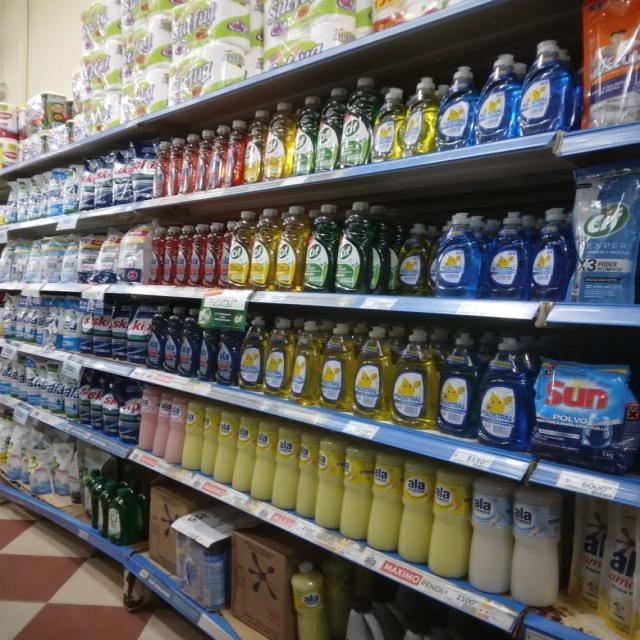ala_conc_azul: (216, 325, 237, 386), (180, 314, 197, 378), (198, 324, 215, 382), (163, 312, 178, 374), (147, 311, 162, 370)
ala_conc_rojo: (226, 119, 243, 188), (209, 124, 225, 190), (204, 222, 219, 288), (190, 223, 203, 288), (182, 134, 196, 194), (177, 224, 190, 287), (163, 225, 176, 286), (168, 136, 181, 196), (150, 226, 163, 285), (197, 130, 208, 192)
ala_crem_amarillo: (430, 466, 468, 580), (400, 456, 431, 567), (370, 451, 400, 553), (292, 560, 329, 640), (342, 442, 369, 542), (317, 436, 342, 532), (274, 425, 298, 512), (298, 430, 317, 520), (254, 419, 274, 504), (235, 415, 254, 496), (216, 408, 235, 488), (184, 398, 202, 472), (202, 403, 216, 479)
ala_crem_blanco: (512, 482, 566, 608), (470, 476, 510, 595)
ala_crem_rosado: (167, 393, 183, 467), (139, 386, 154, 454), (154, 389, 168, 461)
cif_conc_bot_amarilla: (277, 206, 305, 292), (264, 101, 291, 180), (251, 208, 276, 290), (228, 210, 250, 290), (245, 108, 264, 184)
cif_conc_botella_verde: (341, 77, 372, 167), (306, 203, 335, 293), (316, 86, 340, 172), (292, 95, 315, 175)
magistral_con_amarillo: (392, 328, 437, 430), (354, 325, 390, 420), (321, 322, 353, 412), (404, 75, 436, 156), (291, 320, 319, 406), (398, 222, 430, 296), (372, 85, 403, 161), (264, 316, 291, 398), (239, 316, 263, 392)
magistral_con_azul: (479, 335, 529, 450), (520, 39, 570, 135), (433, 212, 482, 299), (439, 329, 477, 438), (530, 207, 572, 302), (486, 210, 528, 301), (477, 52, 518, 143), (438, 65, 474, 150)
